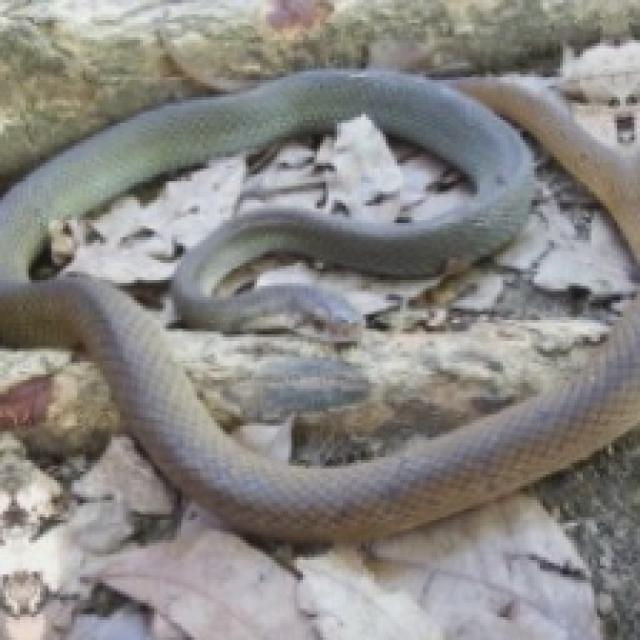reddish rat snake: (0, 71, 637, 540), (471, 83, 637, 254)
